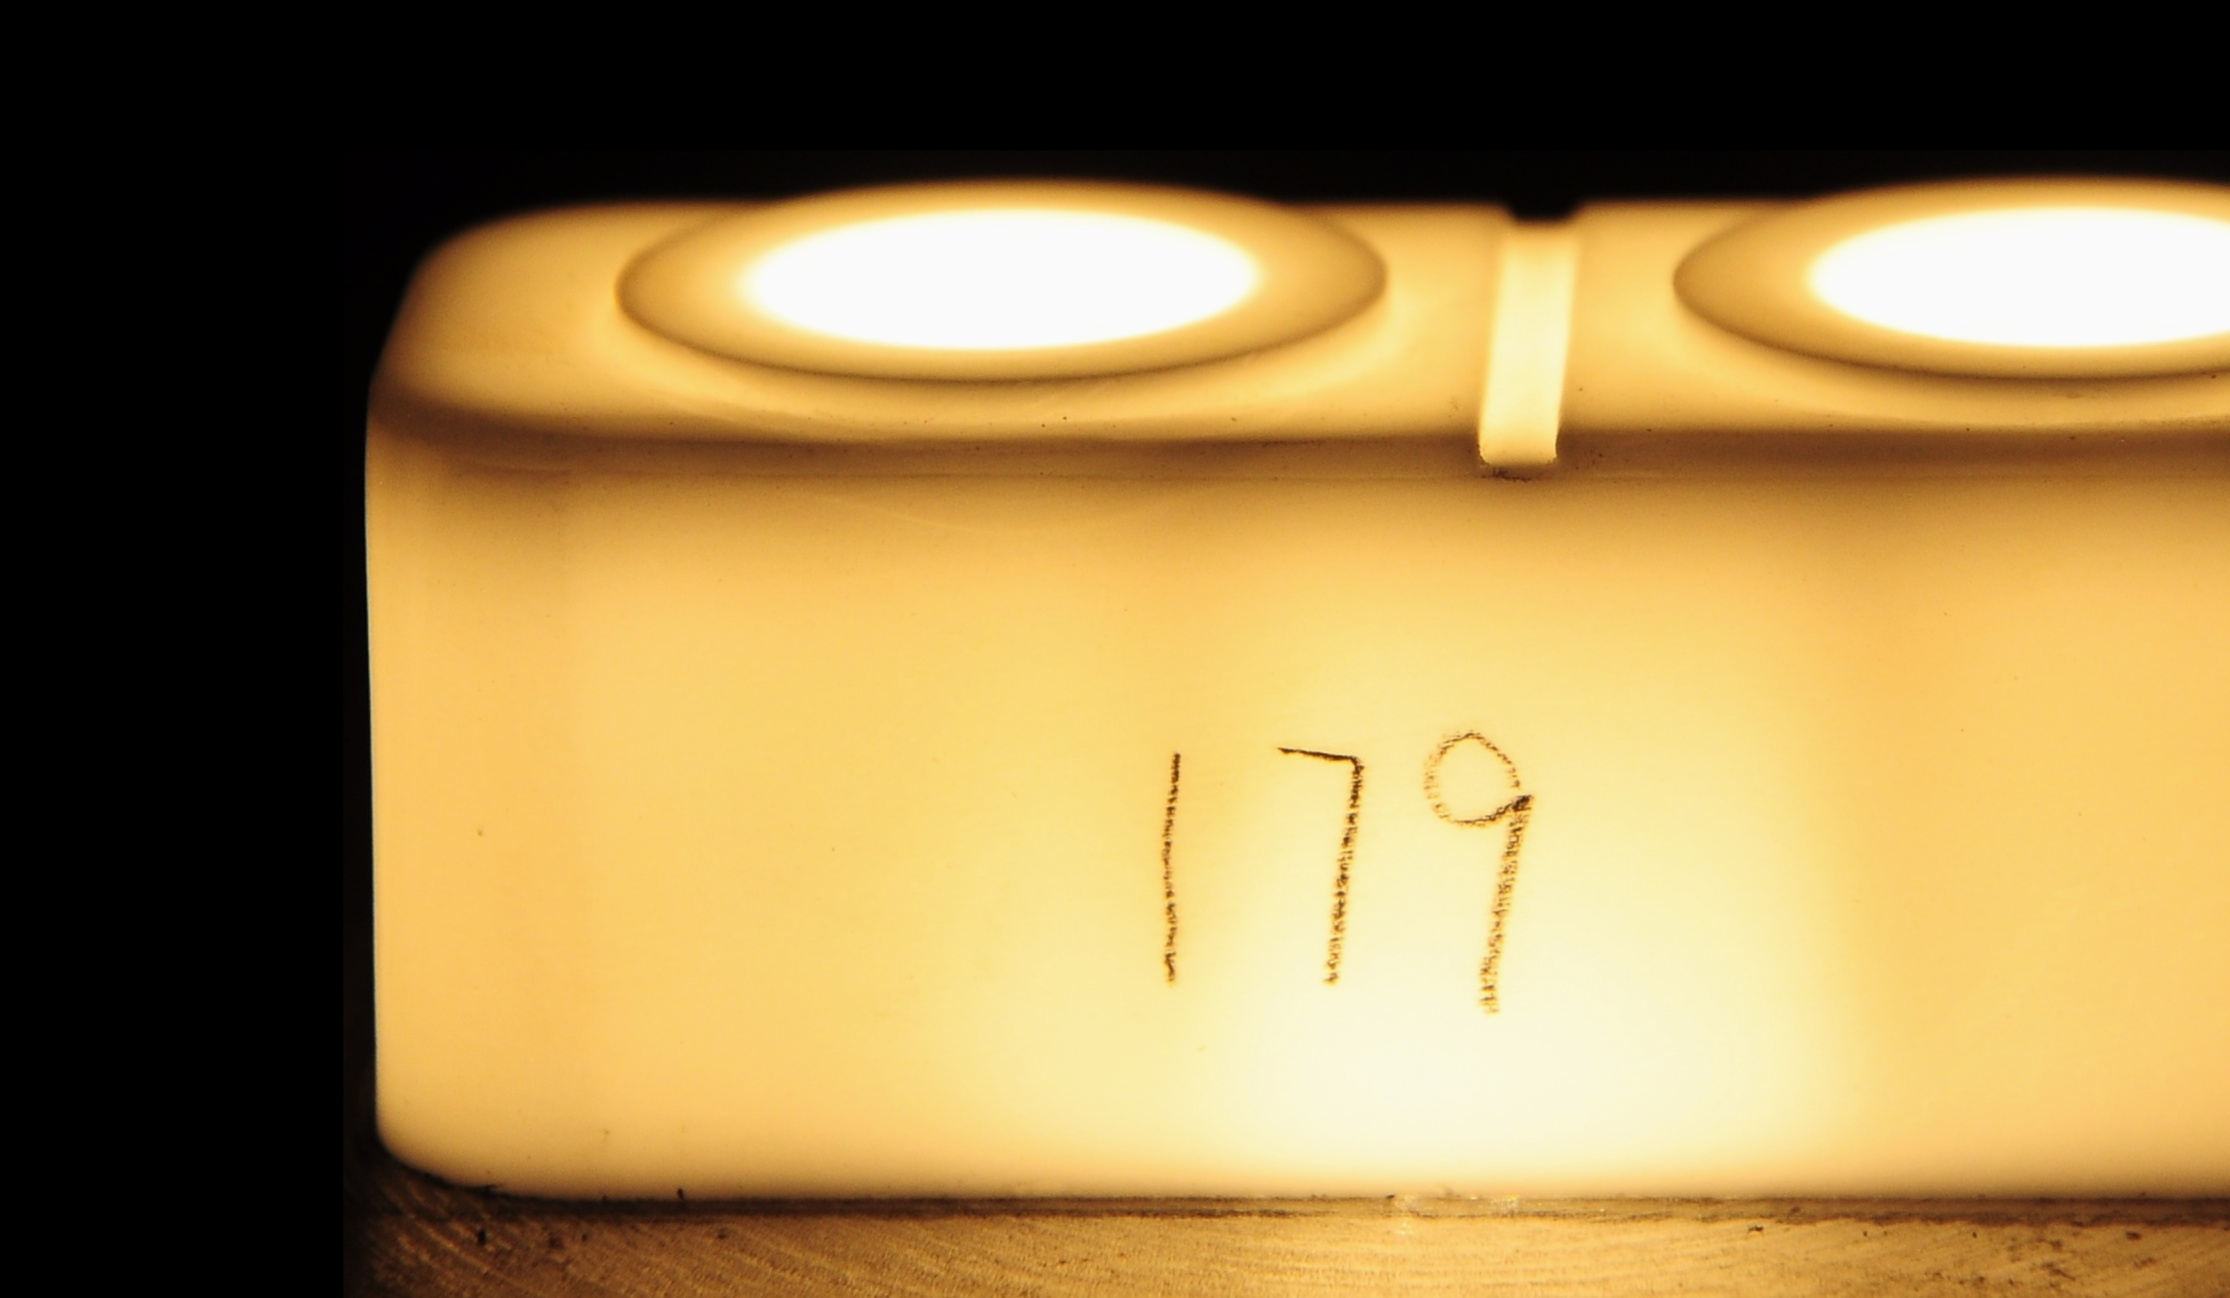flaw: (785, 467, 1280, 562)
